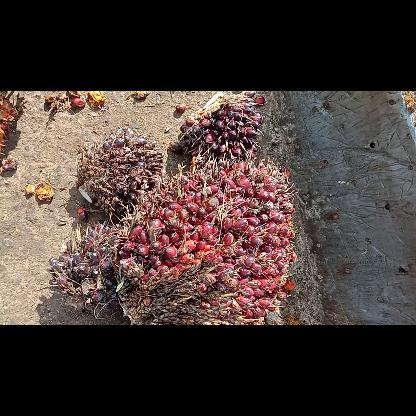TBS abnormal: (75, 126, 161, 212), (173, 91, 261, 164), (46, 224, 114, 318)
TBS masak: (116, 156, 294, 324)
